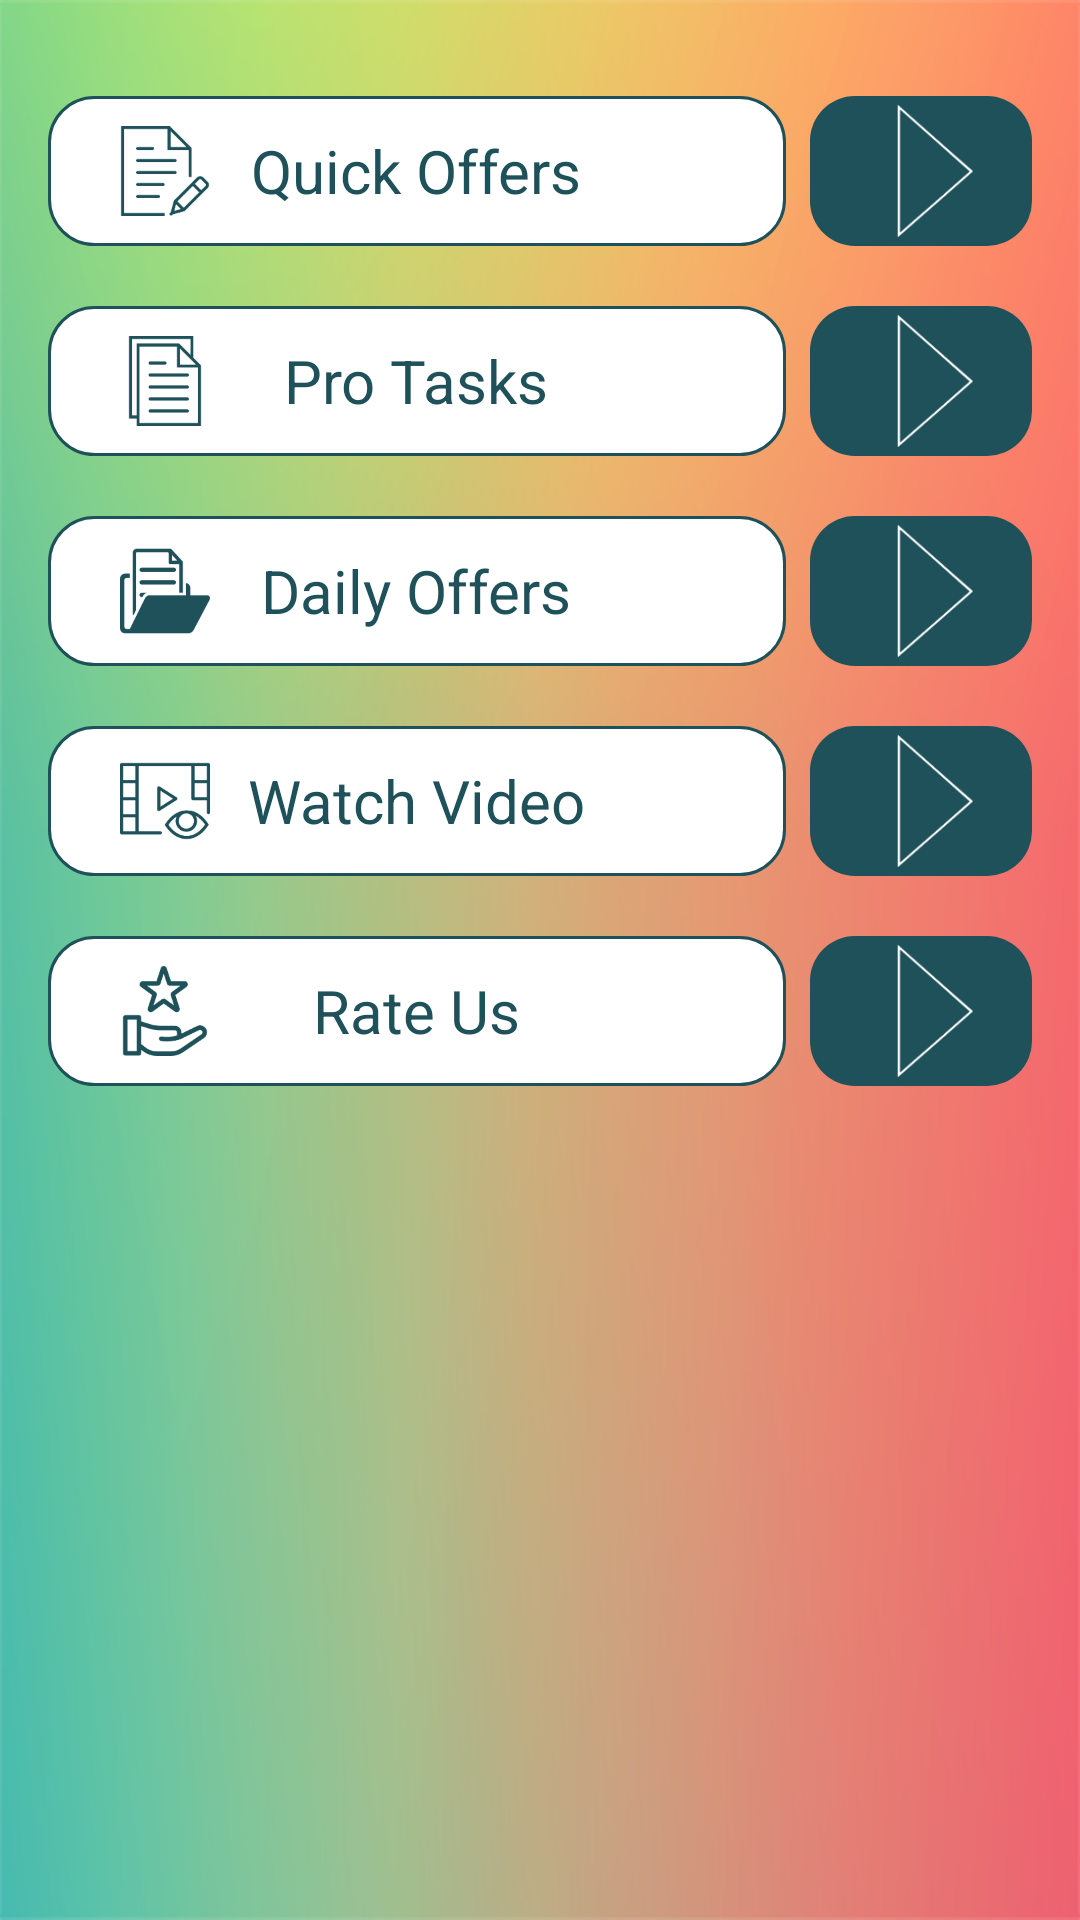

Point at icon controls on the screen. Image size 1080×1920, points as point (x, y).
file: point (165, 171), point (165, 381)
file in folder: point (165, 591)
play: point (935, 171), point (935, 381), point (935, 591), point (935, 801), point (935, 1011)
rating: point (165, 1011)
video player: point (165, 801)
